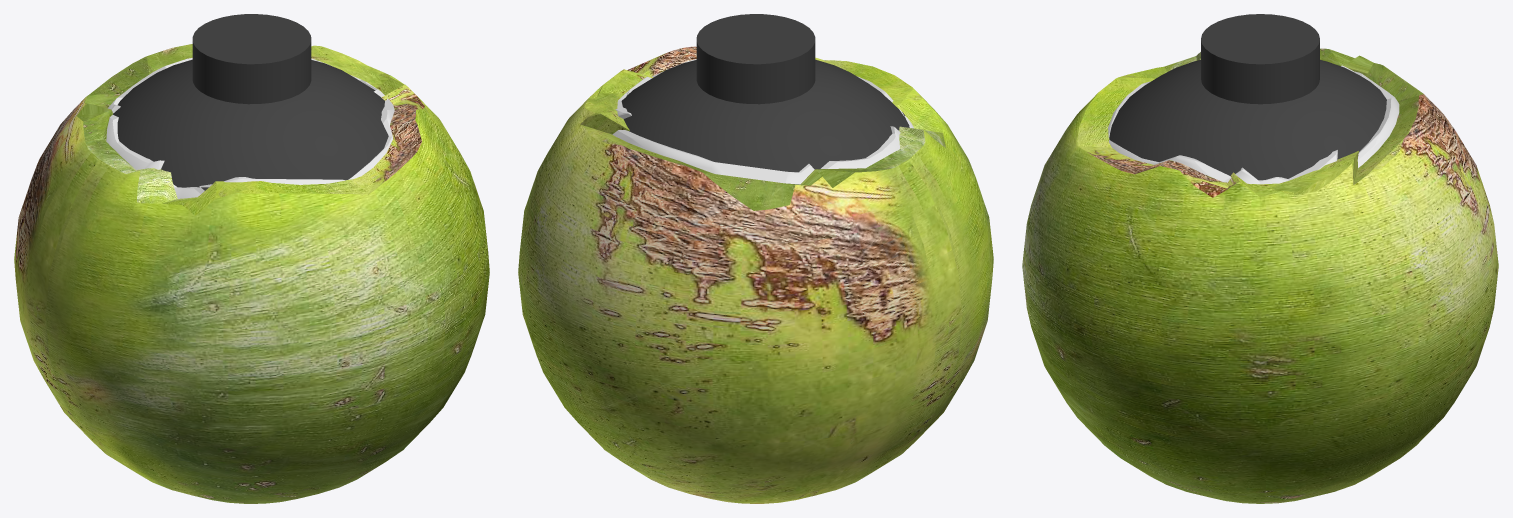
File: Coconut Bomb v2.fbx
3 renders of one model, left to right at view 1: azimuth 30°, elevation 25°; view 2: azimuth 150°, elevation 25°; view 3: azimuth 270°, elevation 25°, orthographic.
Visible parts, largest first — view 1: Coconut Shell, Bomb, Coconut Flesh; view 2: Coconut Shell, Bomb, Coconut Flesh; view 3: Coconut Shell, Bomb, Coconut Flesh.
Boxes of the visible parts, bbox=[...] form: Coconut Shell: bbox=[14, 44, 489, 503]; Bomb: bbox=[113, 14, 388, 190]; Coconut Flesh: bbox=[106, 58, 394, 198]; Coconut Shell: bbox=[518, 46, 993, 503]; Bomb: bbox=[621, 14, 909, 172]; Coconut Flesh: bbox=[612, 59, 914, 184]; Coconut Shell: bbox=[1022, 48, 1498, 503]; Bomb: bbox=[1109, 14, 1386, 180]; Coconut Flesh: bbox=[1108, 65, 1399, 184].
Bounding box in the file's own units: 200 × 205 × 200.
